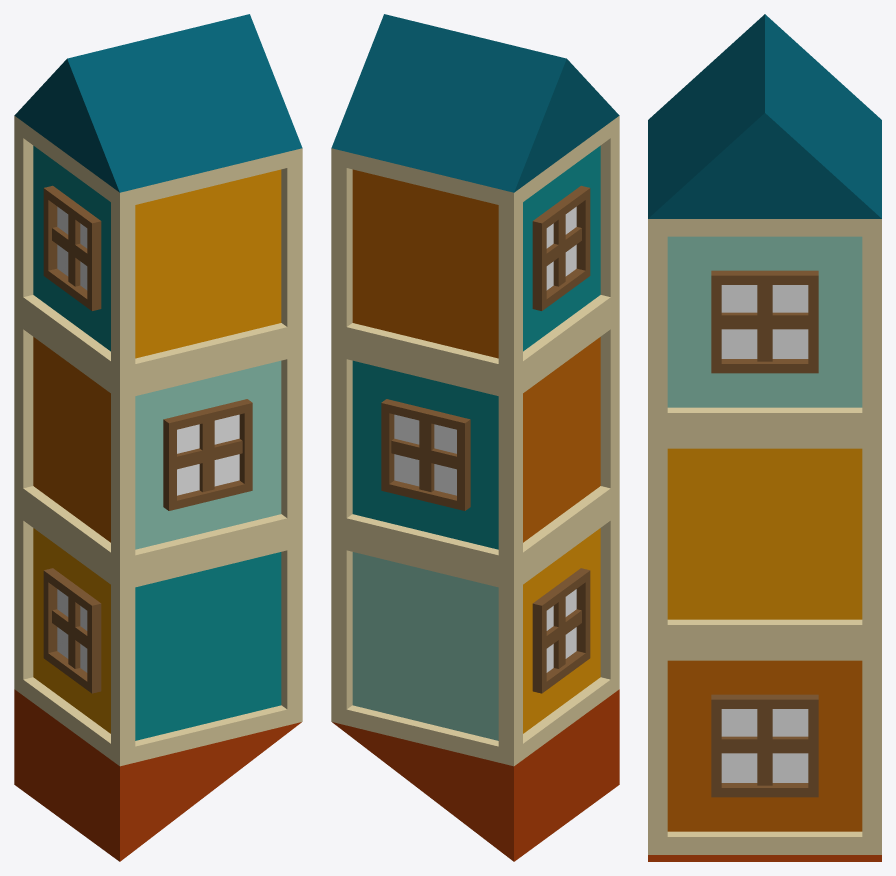
Rendered from building.glb.
3 views of the same model, side by side, from view 1: azimuth 30°, elevation 25°; view 2: azimuth 150°, elevation 25°; view 3: azimuth 270°, elevation 25° (orthographic). The views are drawn at different scales.
Visible parts, largest first — view 1: Cube; view 2: Cube; view 3: Cube.
Part boxes in pixels (bbox=[...]): Cube: bbox=[14, 14, 302, 861]; Cube: bbox=[331, 14, 619, 861]; Cube: bbox=[648, 14, 881, 861].
Size of the model in its own units: 1 by 4 by 1.
